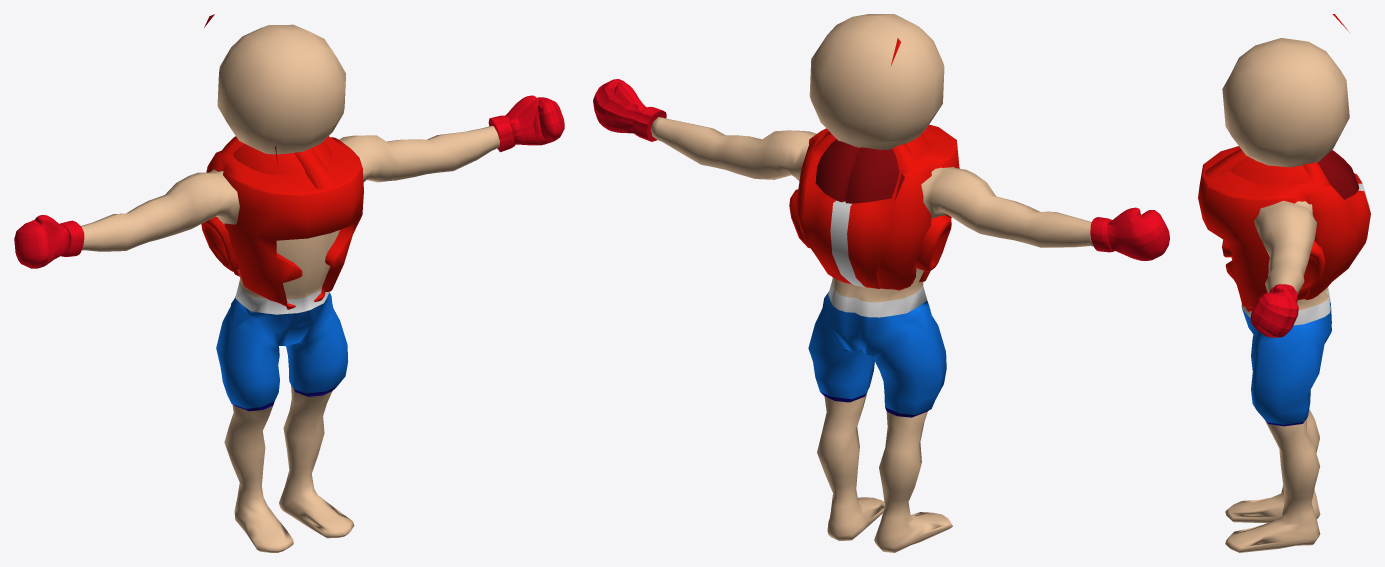
The model's file is versiyon2.fbx.
3 renders of one model, left to right at view 1: azimuth 30°, elevation 25°; view 2: azimuth 150°, elevation 25°; view 3: azimuth 270°, elevation 25°, orthographic. The views are drawn at different scales.
Parts seen in each view (by area): view 1: Boxing Glove.004, Boxing Glove.053; view 2: Boxing Glove.004, Boxing Glove.053; view 3: Boxing Glove.004, Boxing Glove.053.
Part boxes in pixels (x1,y1,x2,y2): Boxing Glove.004: [14, 24, 564, 552]; Boxing Glove.053: [201, 136, 363, 309]; Boxing Glove.004: [593, 14, 1169, 552]; Boxing Glove.053: [789, 124, 959, 290]; Boxing Glove.004: [1222, 38, 1349, 552]; Boxing Glove.053: [1198, 146, 1370, 311].
Bounding box in the file's own units: 838 × 741 × 234.
